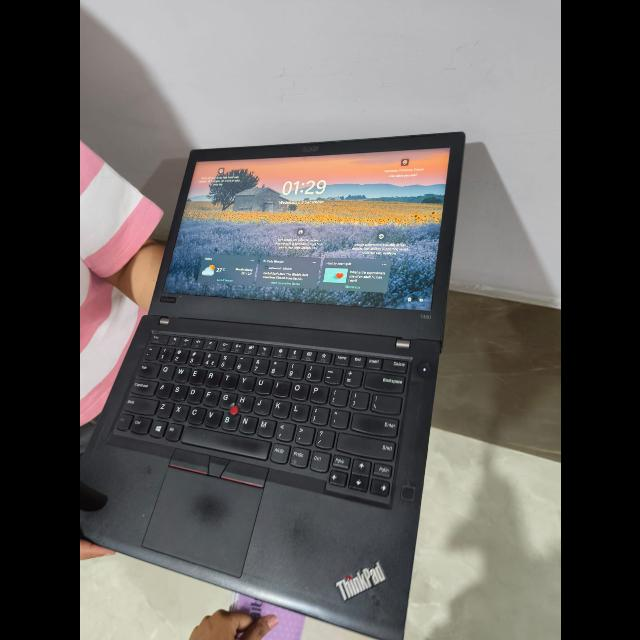laptop: (106, 120, 487, 640)
